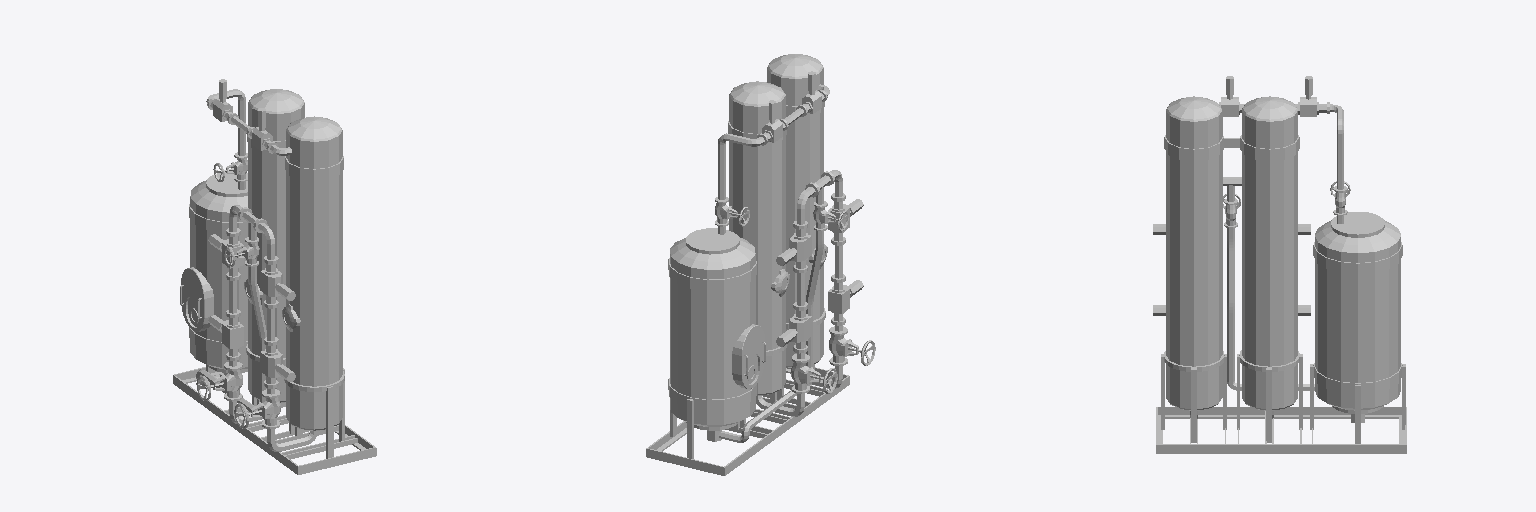
Rendered from ShipScene_6.obj.
3 views of the same model, side by side, from view 1: azimuth 30°, elevation 25°; view 2: azimuth 150°, elevation 25°; view 3: azimuth 270°, elevation 25° (orthographic).
Bounding box in the file's own units: 28.93 × 80 × 54.38.